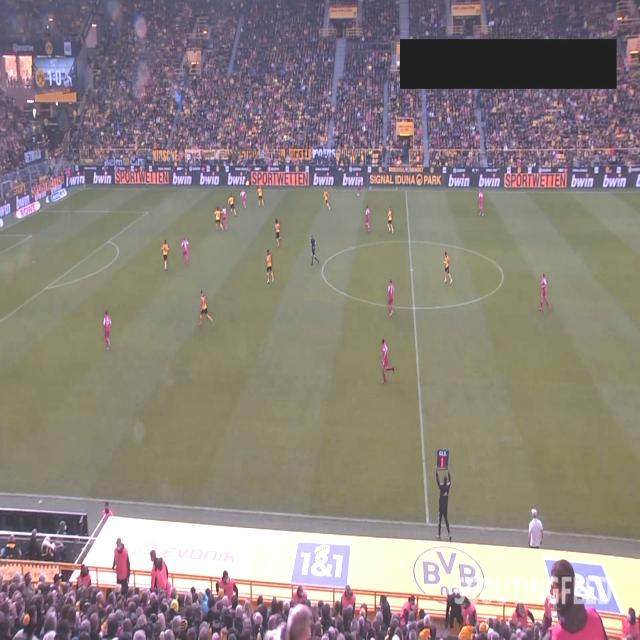ball: (356, 189, 362, 199)
f_player: (376, 332, 398, 392), (438, 247, 460, 298), (193, 286, 216, 332), (536, 268, 552, 314), (101, 304, 114, 352), (262, 247, 276, 289), (361, 199, 375, 235), (271, 210, 283, 250), (385, 202, 397, 242), (387, 274, 397, 322), (321, 184, 334, 220), (158, 237, 170, 275), (474, 186, 485, 224), (180, 235, 192, 268), (211, 208, 223, 238), (240, 185, 250, 221), (220, 202, 230, 236), (254, 185, 266, 213), (228, 190, 237, 227)
umpire: (431, 431, 455, 538), (306, 230, 324, 276)
